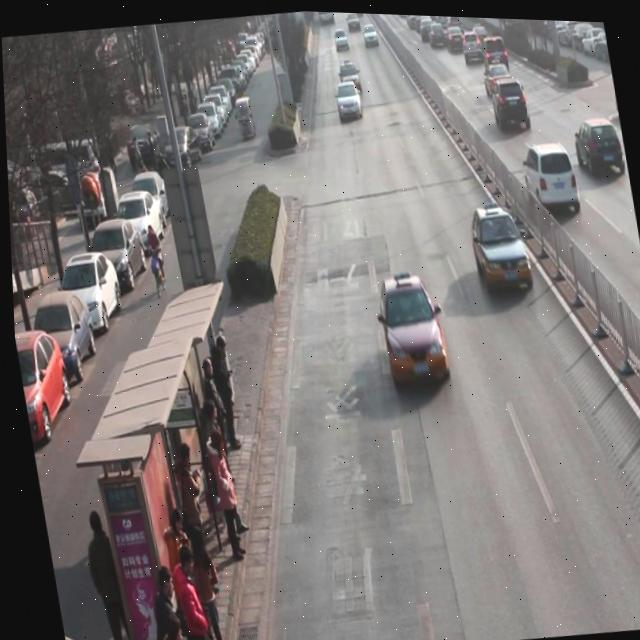car: (371, 265, 448, 385), (464, 194, 532, 291), (519, 134, 579, 214), (570, 109, 627, 177), (488, 72, 531, 131), (481, 52, 512, 93), (333, 76, 361, 117), (479, 30, 509, 66), (459, 25, 484, 62), (336, 54, 361, 89), (444, 22, 466, 51), (427, 18, 447, 45), (361, 19, 379, 46), (418, 12, 436, 37), (333, 24, 348, 49), (516, 15, 534, 33), (471, 23, 487, 43), (345, 10, 361, 28)
